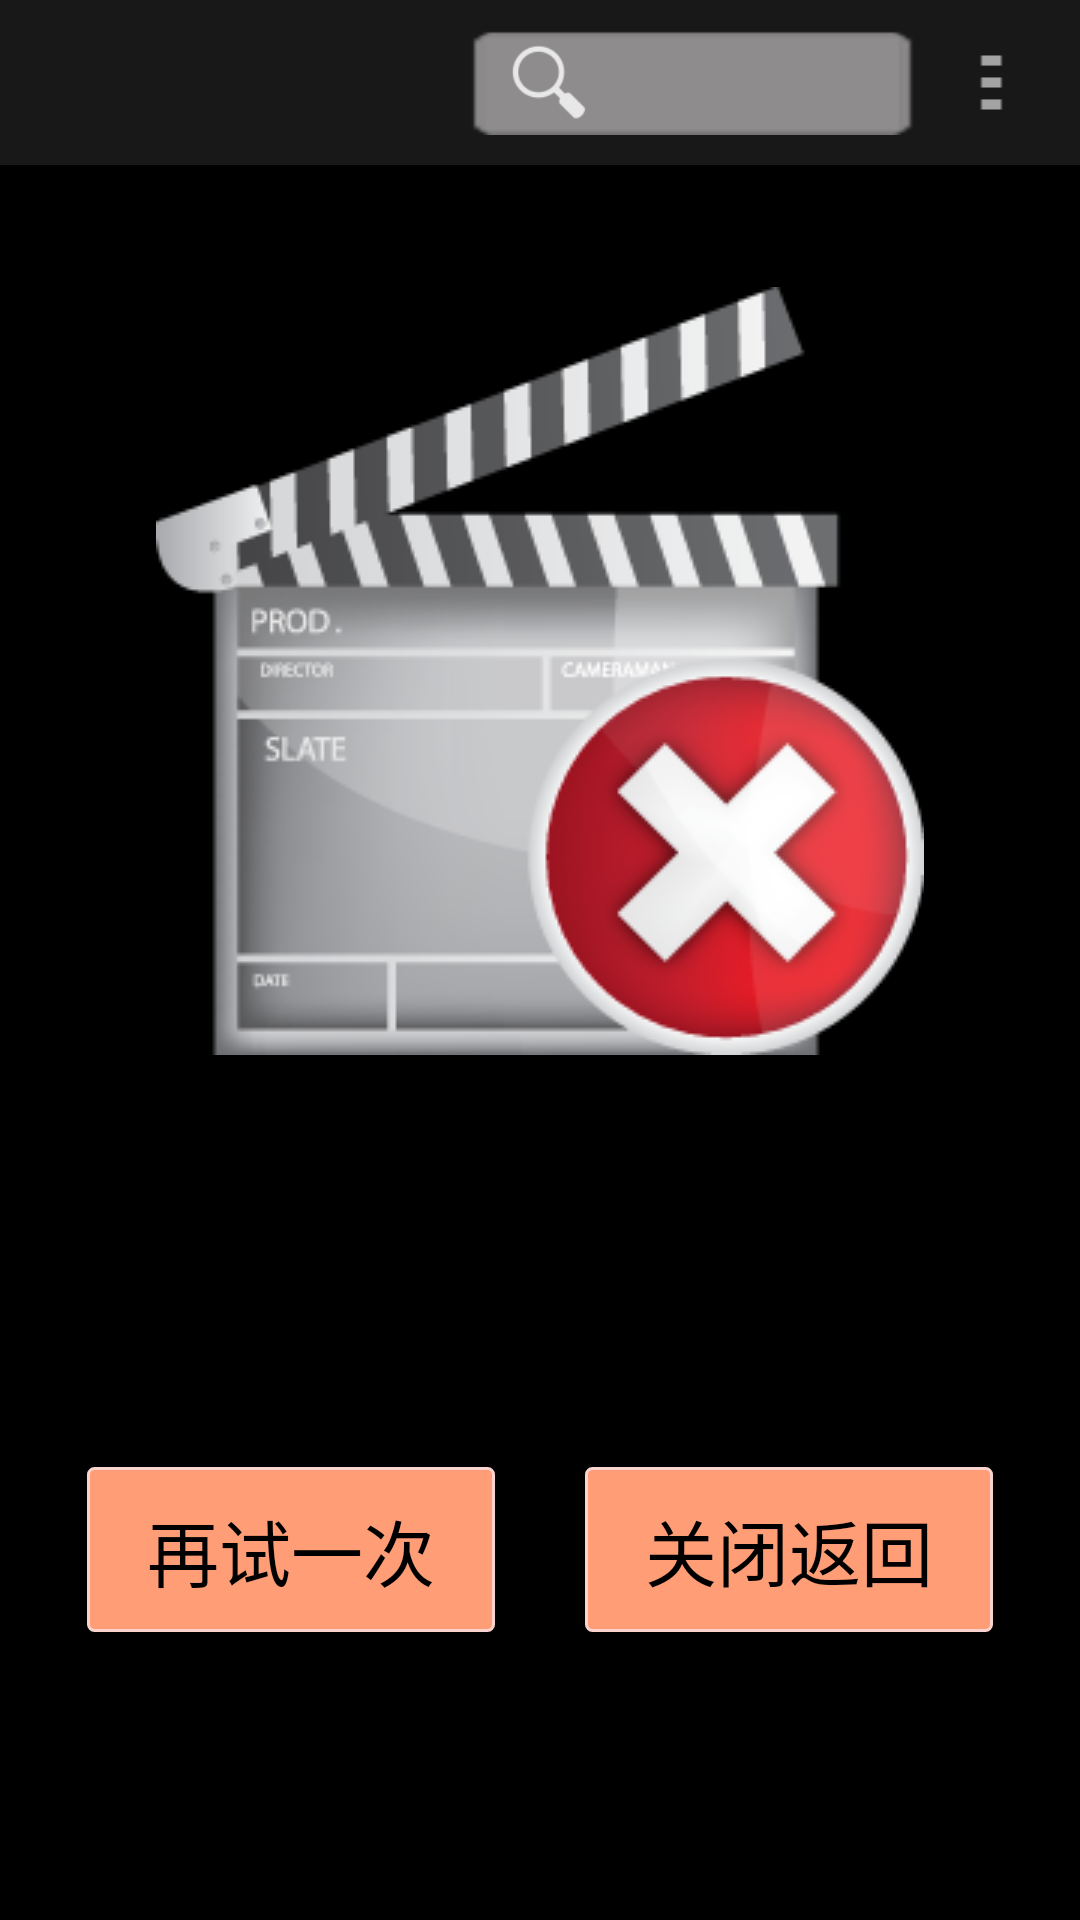

Icons on this 1080*1920 Android screen, each with the point to tap as point (x, y):
popmenu: point (991, 82)
